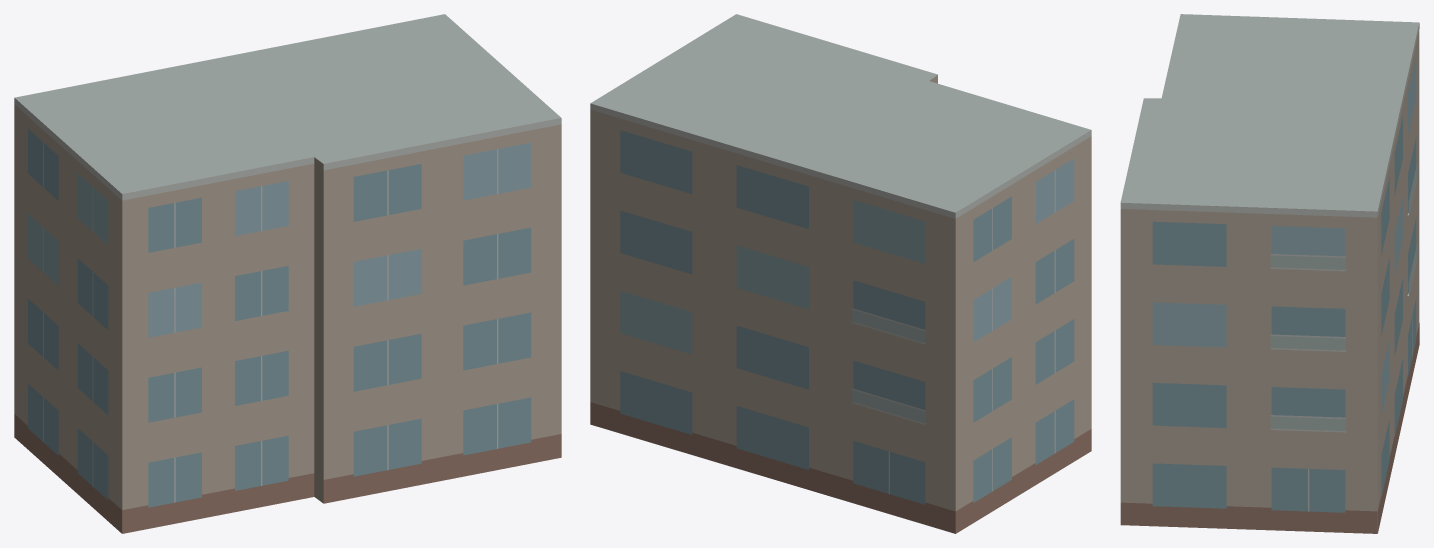
Rendered from survey-upis-32959693.glb.
3 views of the same model, side by side, from view 1: azimuth 30°, elevation 25°; view 2: azimuth 150°, elevation 25°; view 3: azimuth 270°, elevation 25° (orthographic). The views are drawn at different scales.
Parts seen in each view (by area): view 1: survey-upis-32959693.tmp; view 2: survey-upis-32959693.tmp; view 3: survey-upis-32959693.tmp.
Part boxes in pixels (x1,y1,x2,y2): survey-upis-32959693.tmp: [14, 14, 561, 533]; survey-upis-32959693.tmp: [590, 14, 1091, 533]; survey-upis-32959693.tmp: [1120, 14, 1419, 533].
Bounding box in the file's own units: 16.83 × 12.8 × 10.77.
